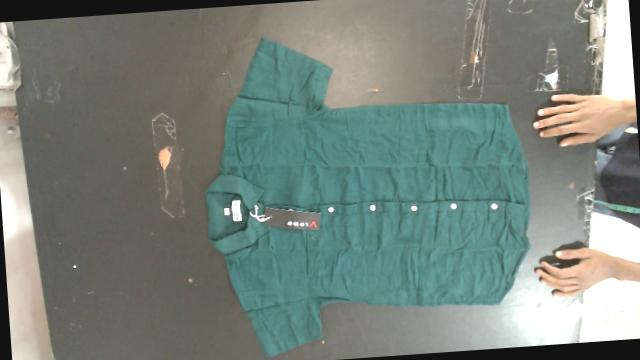new-garment: (205, 38, 529, 356)
